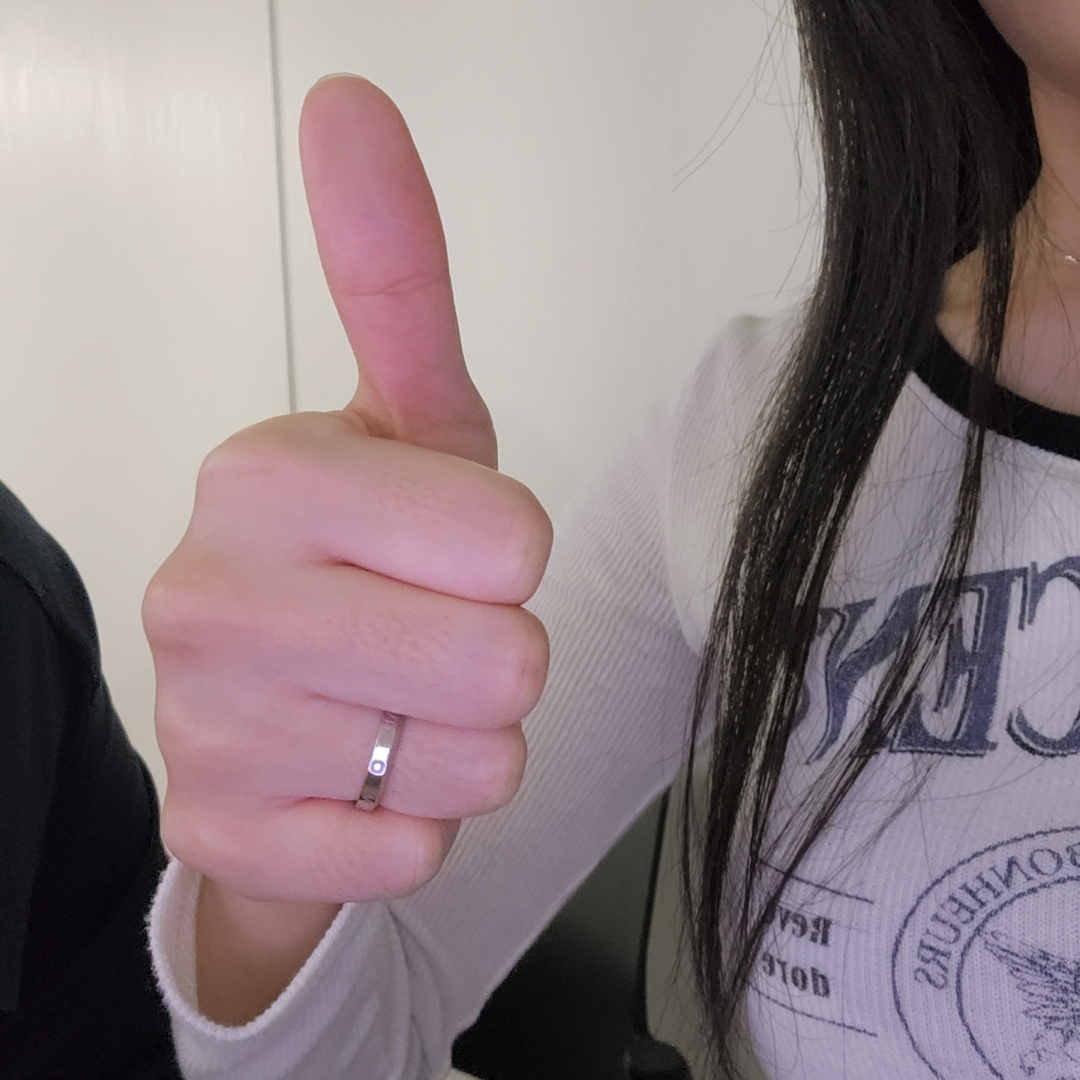best: (139, 73, 557, 899)
